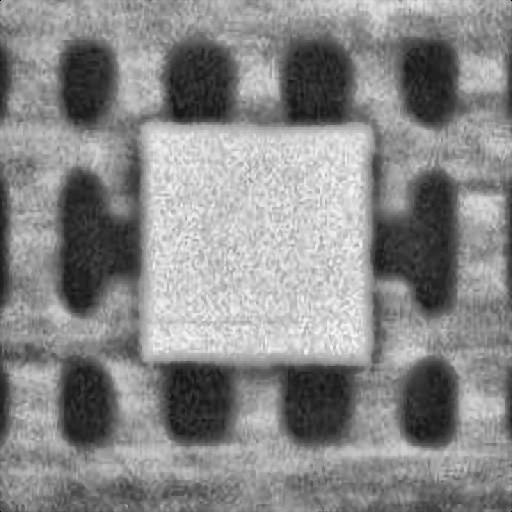DIE_CRACK: (142, 308, 286, 329)
